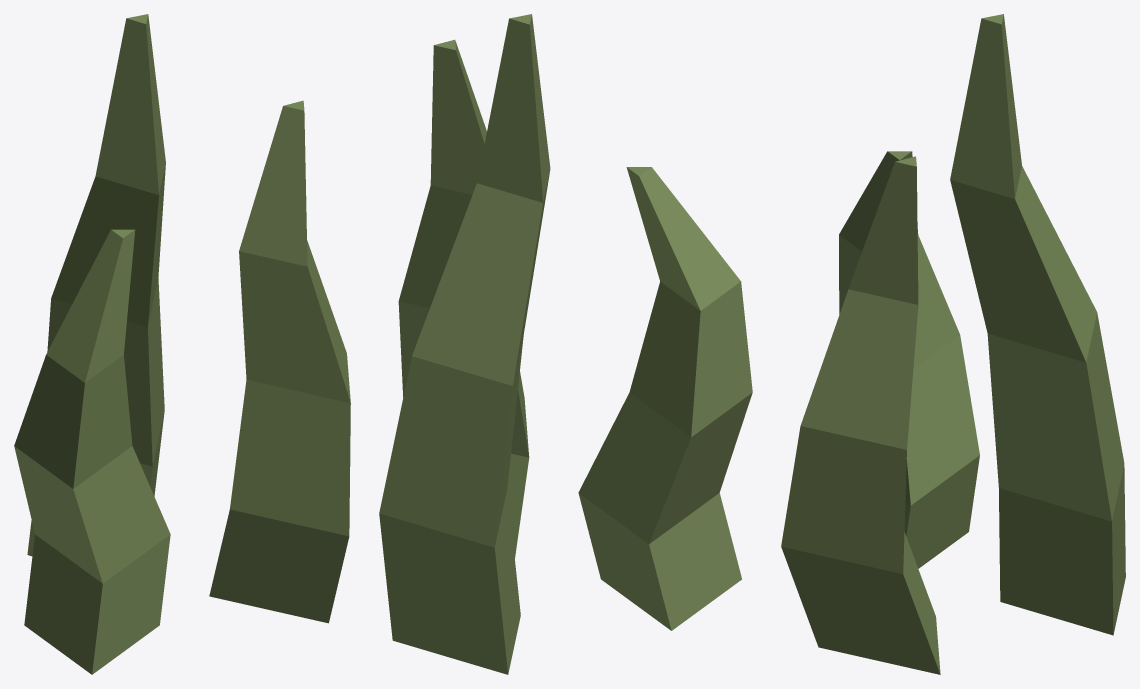
The model's file is GrassBlade.fbx.
3 renders of one model, left to right at view 1: azimuth 30°, elevation 25°; view 2: azimuth 150°, elevation 25°; view 3: azimuth 270°, elevation 25°, orthographic. The views are drawn at different scales.
Parts seen in each view (by area): view 1: Grass; view 2: Grass; view 3: Grass.
Boxes of the visible parts, x1,y1,x2,y2 form: Grass: (14,14,350,674); Grass: (379,14,752,674); Grass: (781,14,1125,674).
Size of the model in its own units: 27.15 by 48.28 by 25.89.
